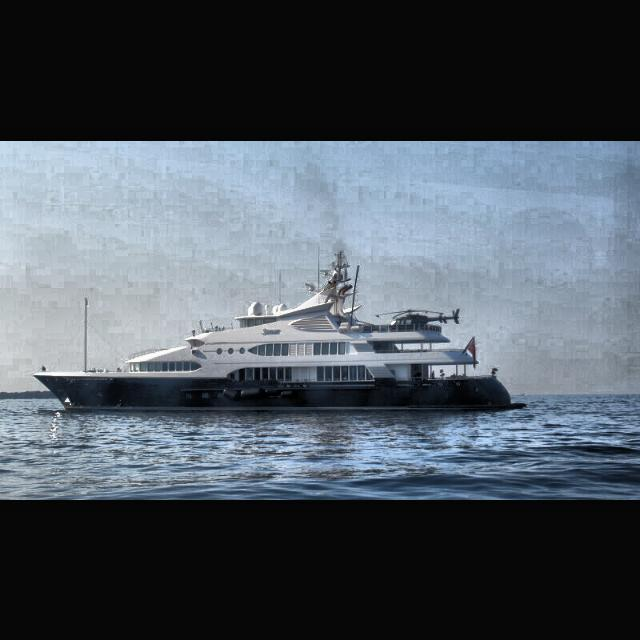yacht: (32, 261, 528, 411)
